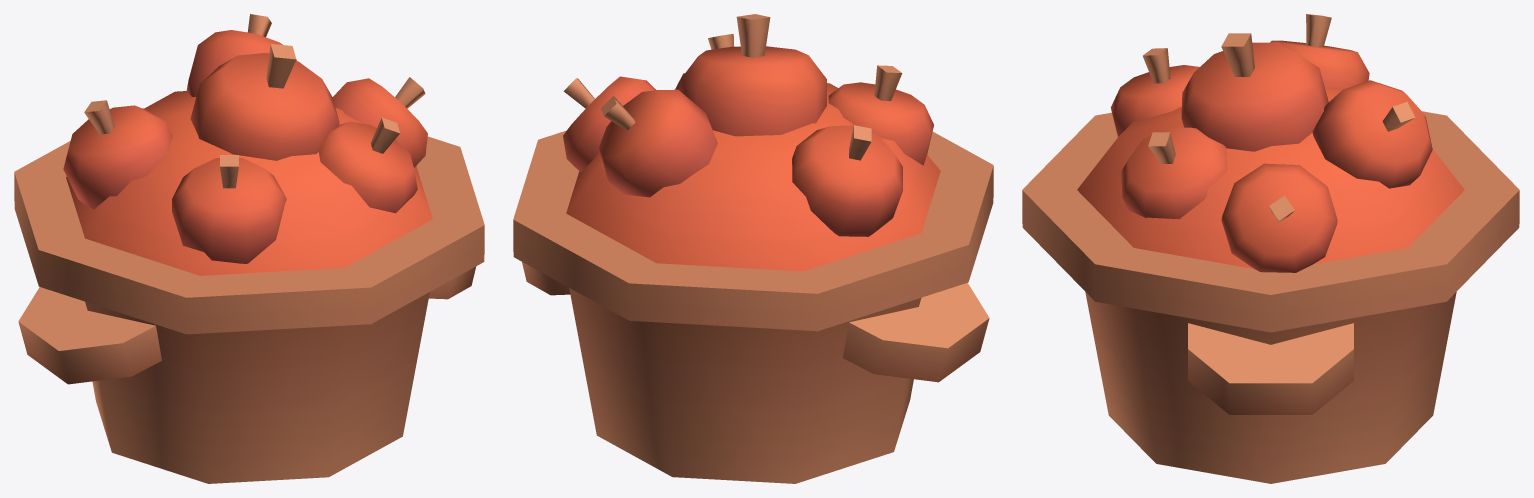
Rendered from display-fruit.glb.
3 views of the same model, side by side, from view 1: azimuth 30°, elevation 25°; view 2: azimuth 150°, elevation 25°; view 3: azimuth 270°, elevation 25° (orthographic). The views are drawn at different scales.
Parts seen in each view (by area): view 1: display-fruit; view 2: display-fruit; view 3: display-fruit.
Part boxes in pixels (<box>): display-fruit: <box>14,14,484,483</box>; display-fruit: <box>513,14,993,483</box>; display-fruit: <box>1022,14,1519,483</box>.
Bounding box in the file's own units: 0.6 × 0.516 × 0.6.
1 material, 1 textured.
